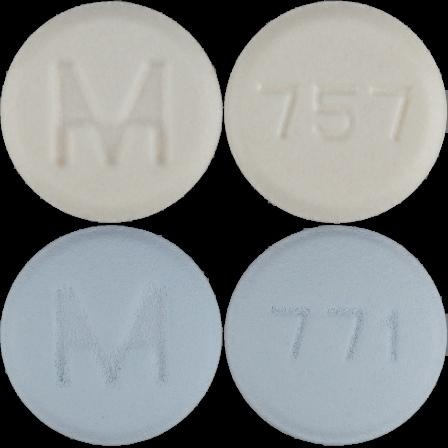0378-0757: (0, 0, 224, 224)
